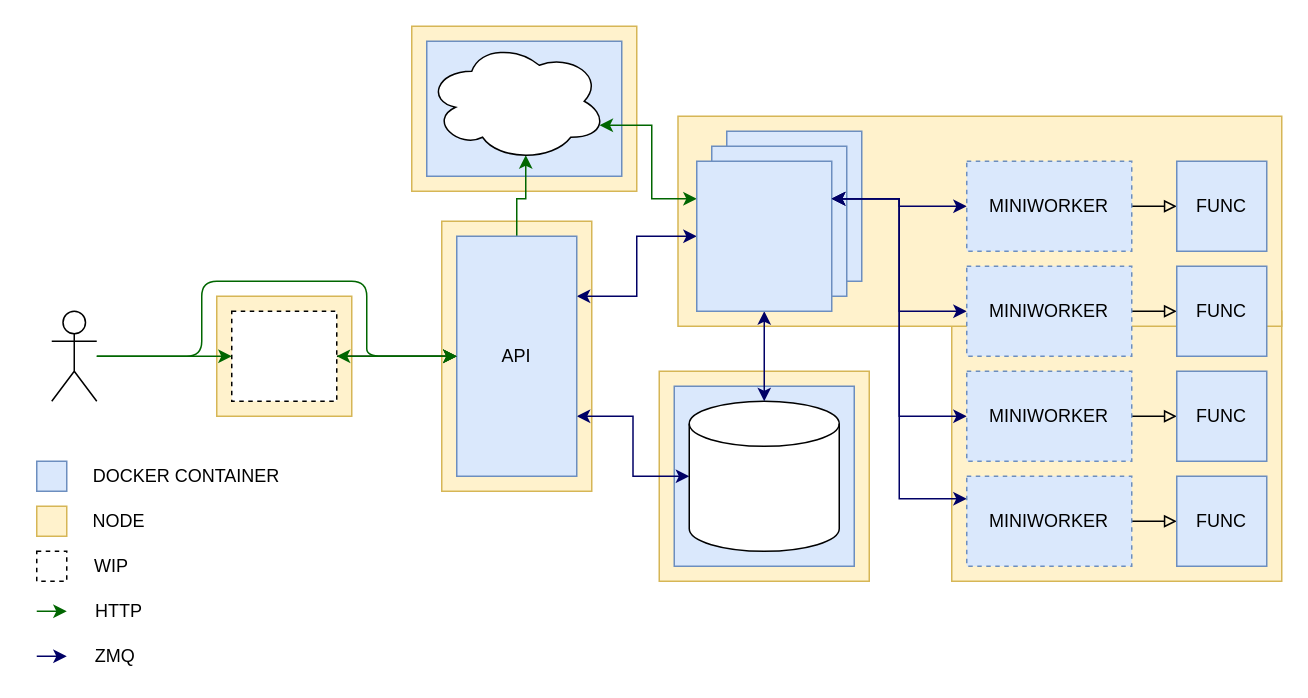
The diagram is 1308 pixels wide and 698 high, and some of its shapes have lost their labels. The box of each missing label's shape, as (x1, y1, x2, y2) in pixels:
CLI: (230, 310, 337, 401)
DB: (688, 400, 839, 551)
INSTANCE (WORKER): (695, 160, 832, 311)
REGISTRY: (425, 40, 607, 161)
